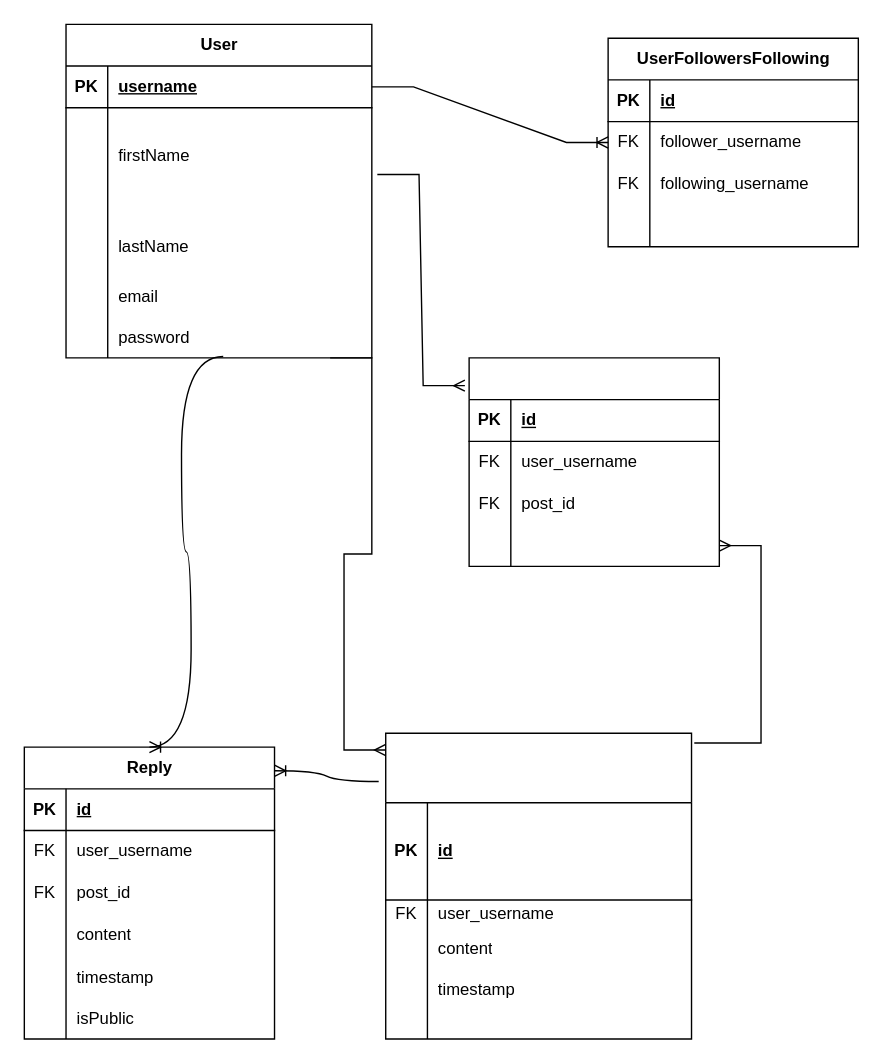
The diagram is 883 pixels wide and 1063 high, and some of its shapes have lost their labels. Here are the shapes that lost their labels. From the top down, the box of each, then its label:
(468, 357, 719, 566): Likes
(384, 732, 692, 1039): Post
